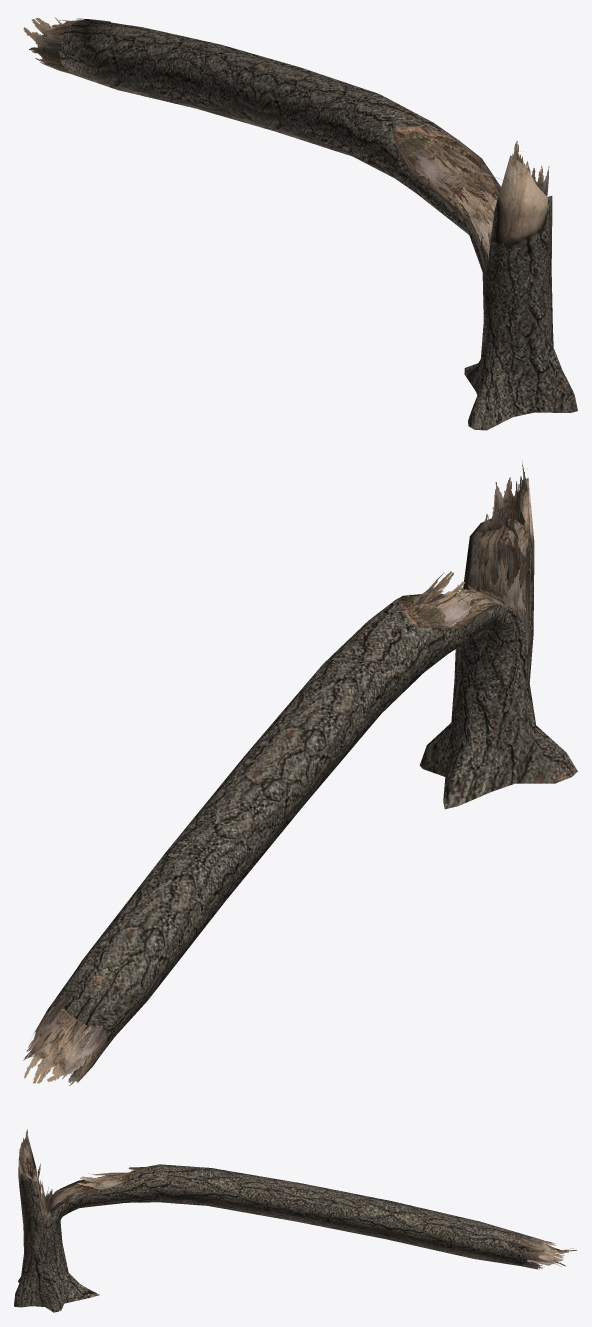
The model's file is fallen_pine_tree_01.glb.
3 renders of one model, top to bottom at view 1: azimuth 30°, elevation 25°; view 2: azimuth 150°, elevation 25°; view 3: azimuth 270°, elevation 25°, orthographic. The views are drawn at different scales.
Visible parts, largest first — view 1: fallen_pine_tree_01; view 2: fallen_pine_tree_01; view 3: fallen_pine_tree_01.
Part boxes in pixels (x1=…): fallen_pine_tree_01: x1=23, y1=17, x2=577, y2=430; fallen_pine_tree_01: x1=23, y1=462, x2=577, y2=1085; fallen_pine_tree_01: x1=14, y1=1129, x2=577, y2=1312.
Bounding box in the file's own units: 0.7058 × 1.61 × 4.98.
Materials: 1 (1 with a texture image).
